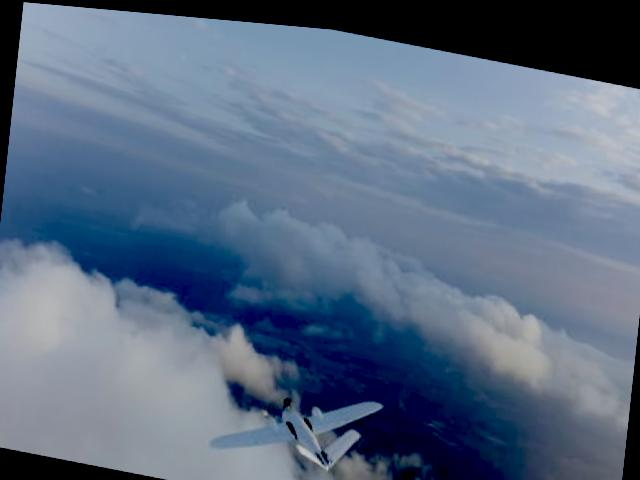uav: (206, 360, 386, 478)
